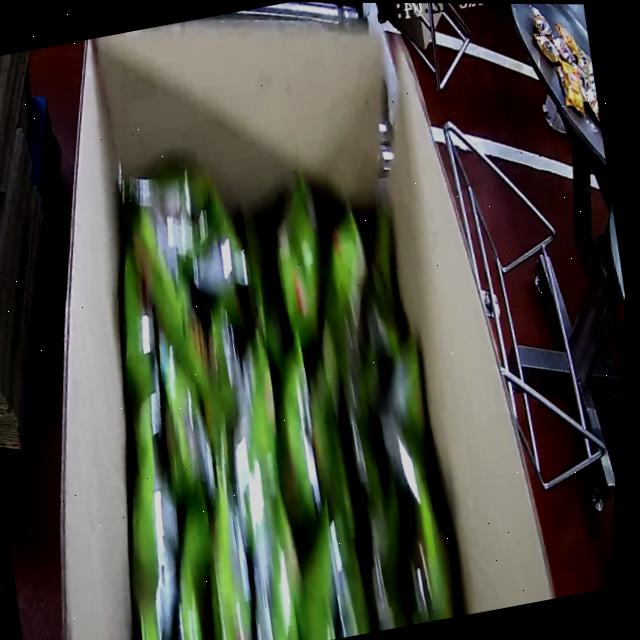YOGURT_HERB: (33, 132, 481, 640)
